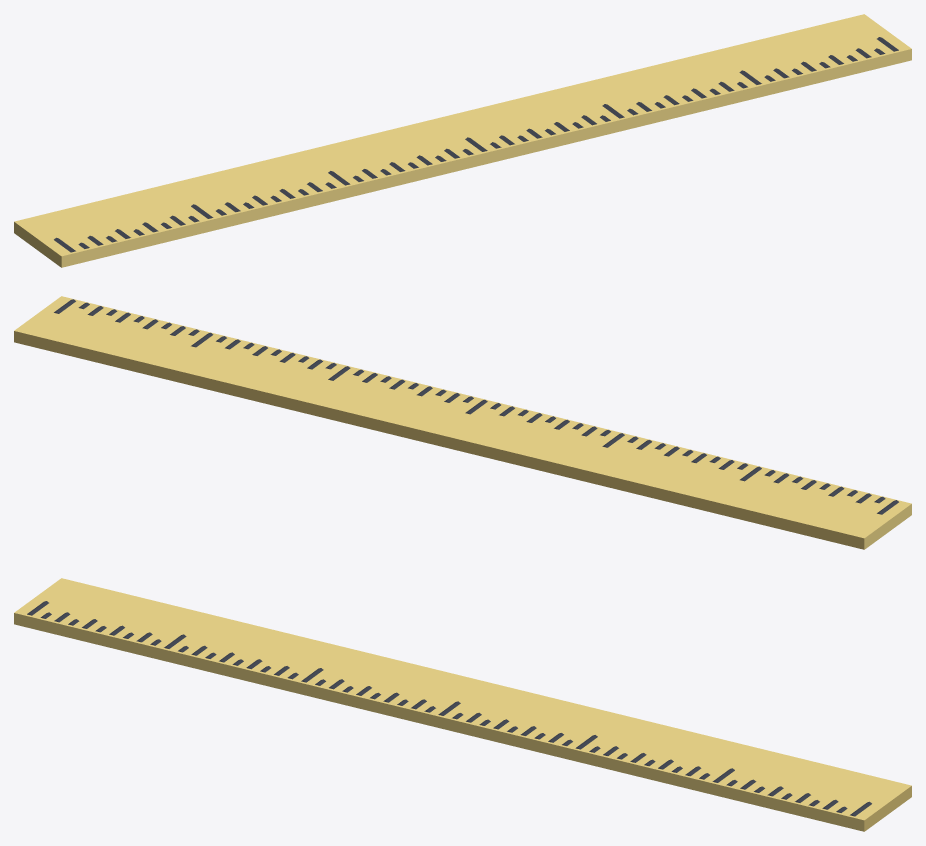
File: ruler_30.glb
3 renders of one model, top to bottom at view 1: azimuth 30°, elevation 25°; view 2: azimuth 150°, elevation 25°; view 3: azimuth 330°, elevation 25°, orthographic.
Parts seen in each view (by area): view 1: ruler; view 2: ruler; view 3: ruler.
Boxes of the visible parts, x1,y1,x2,y2 form: ruler: [14, 14, 911, 267]; ruler: [14, 296, 911, 549]; ruler: [14, 578, 911, 831].
Size of the model in its own units: 0.31 by 0.0045 by 0.03.
